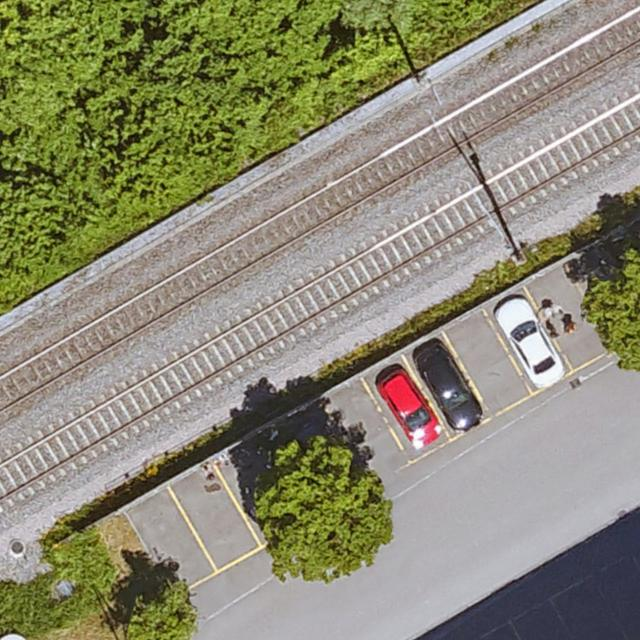tree: (130, 0, 324, 105), (259, 448, 392, 581), (0, 0, 125, 107), (87, 109, 218, 205), (0, 161, 85, 254), (591, 255, 640, 368), (128, 590, 200, 640)
